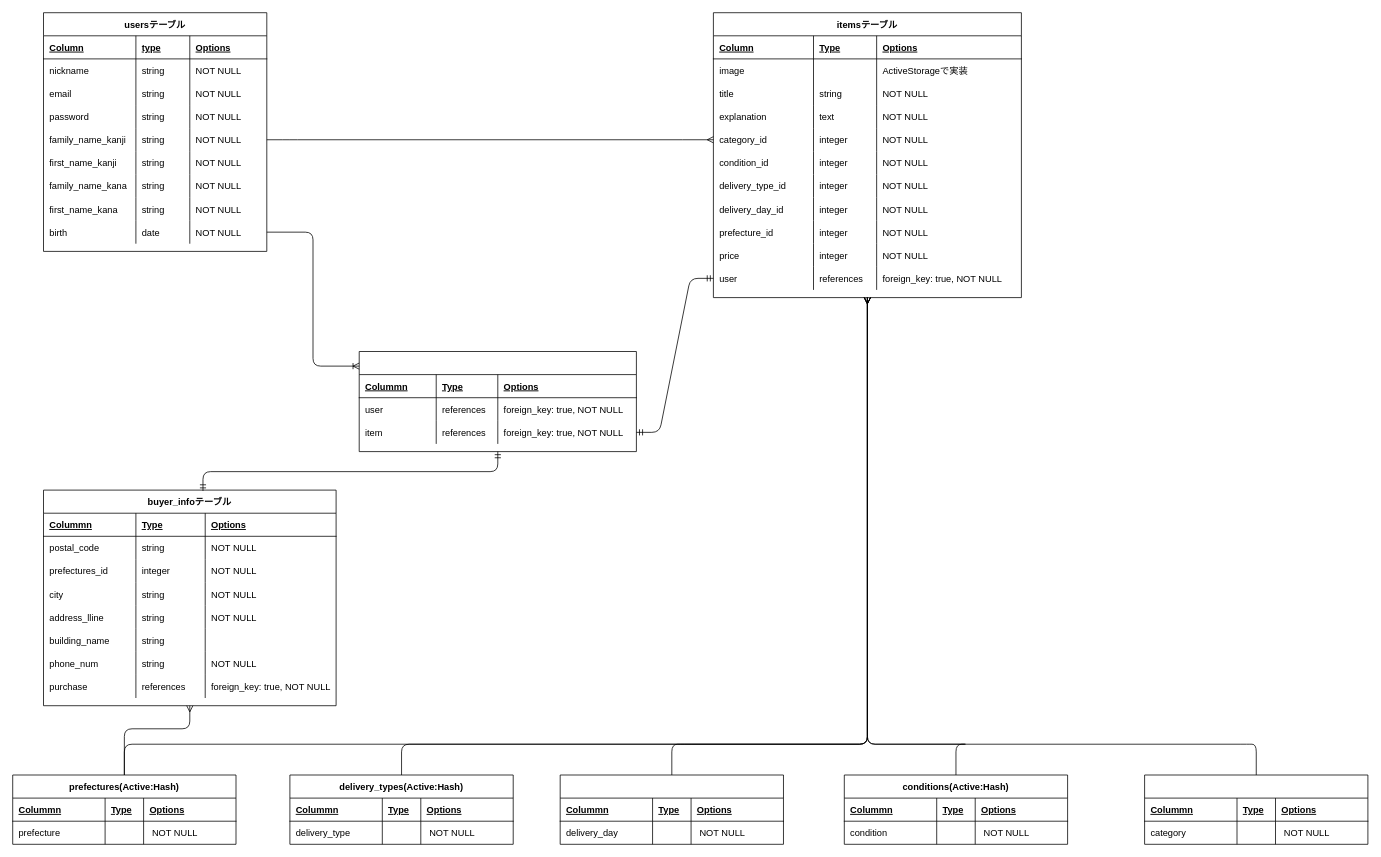
This 1381x857 diagram has some shape labels left out. The box of each missing label's shape, as (x1, y1, x2, y2) in pixels:
categories(Active:Hash): (1144, 774, 1368, 844)
delivery_days(Active:Hash): (559, 774, 783, 844)
purchasesテーブル: (358, 351, 636, 452)
